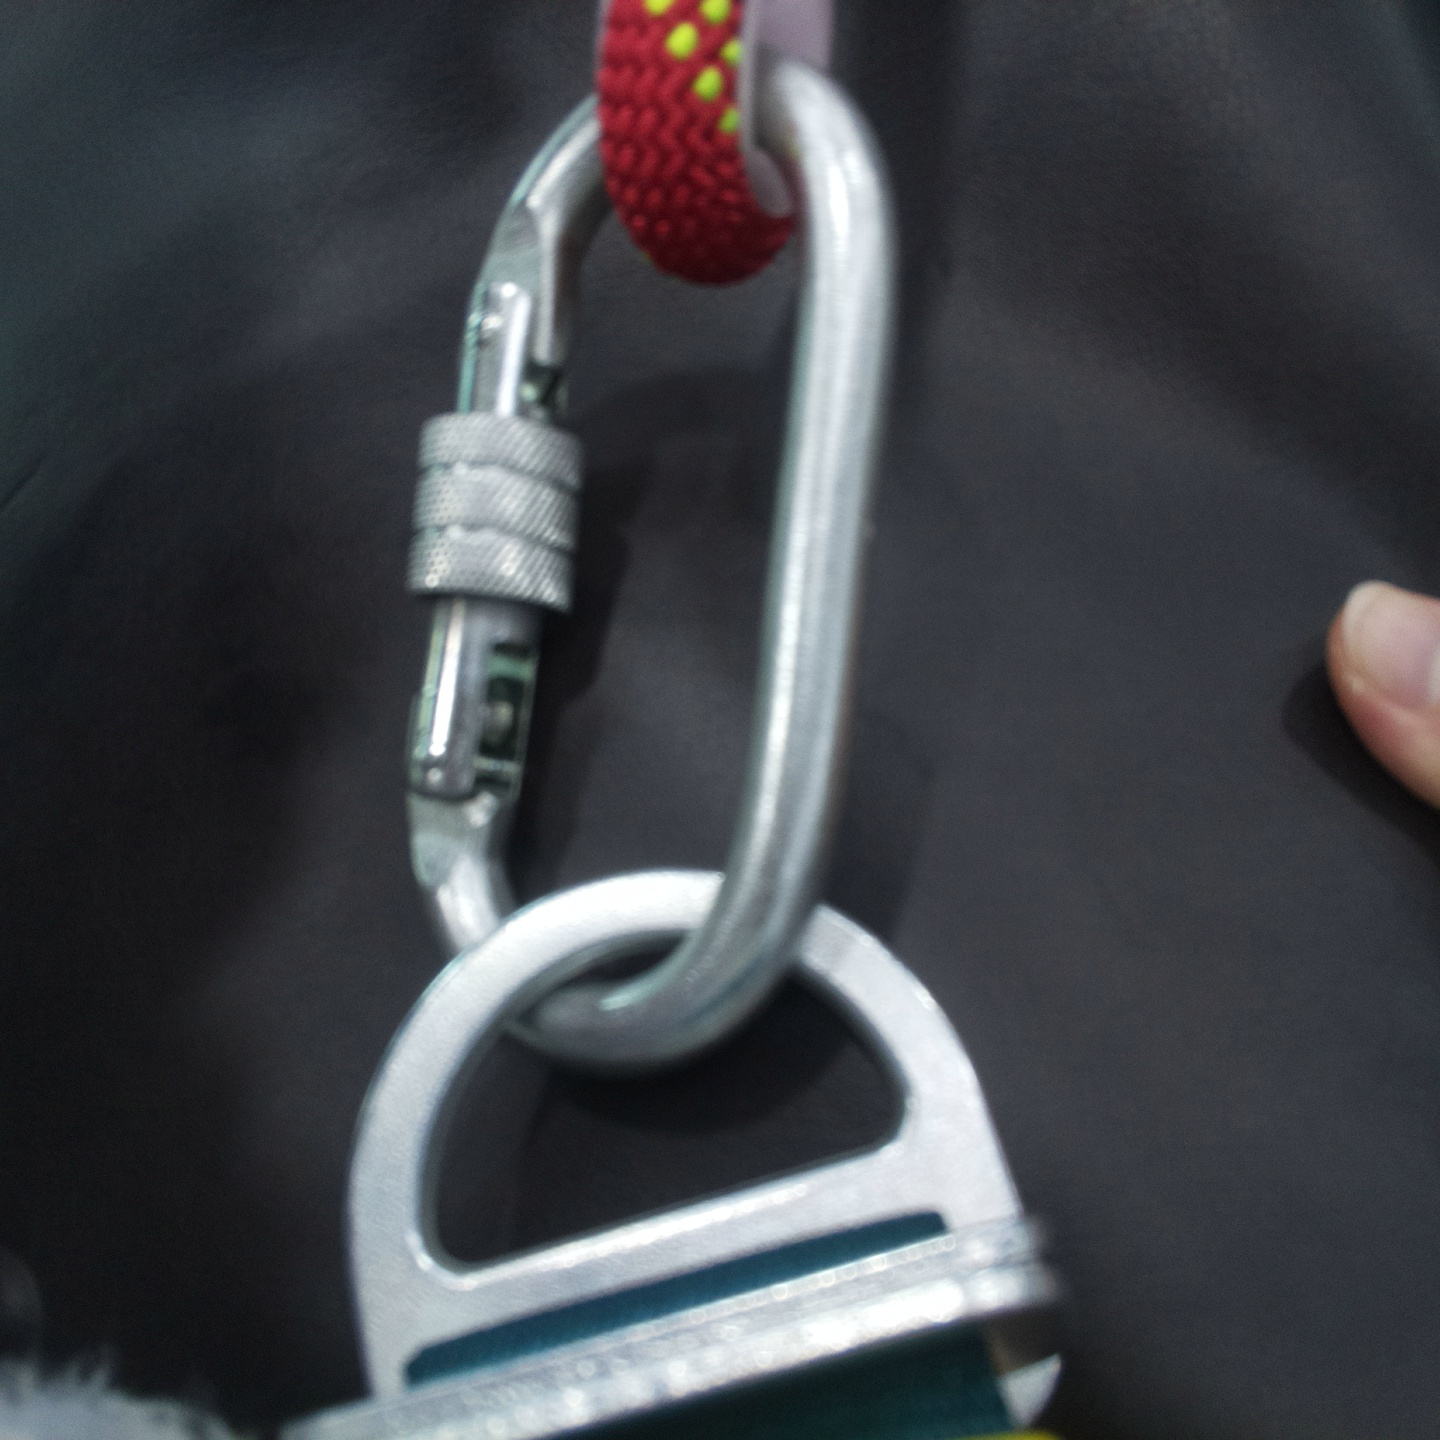SUCCESS: (363, 382, 1026, 1399)
